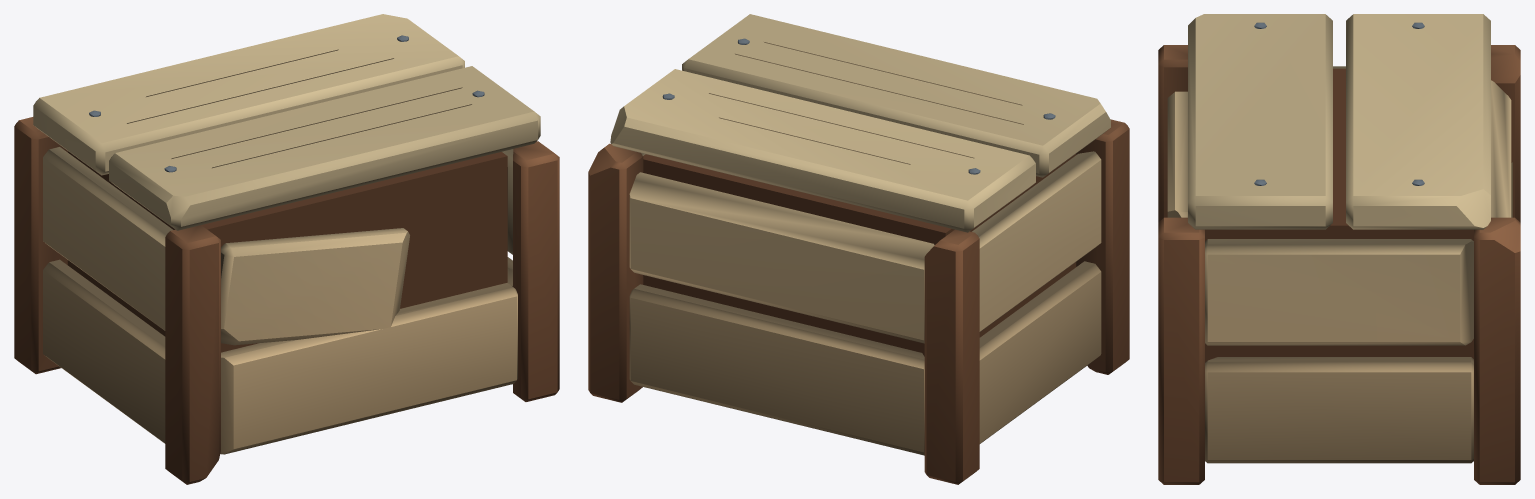
File: drop-crate-v3.glb
The picture shows the model from 3 angles, left to right: view 1: azimuth 30°, elevation 25°; view 2: azimuth 150°, elevation 25°; view 3: azimuth 270°, elevation 25°; orthographic projection. The views are drawn at different scales.
Visible parts, largest first — view 1: 0_crate; view 2: 0_crate; view 3: 0_crate.
Boxes of the visible parts, left/top/right/bottom form: 0_crate: left=14, top=14, right=559, bottom=484; 0_crate: left=588, top=14, right=1129, bottom=484; 0_crate: left=1158, top=14, right=1520, bottom=484.
Size of the model in its own units: 0.49 by 0.344 by 0.39.
